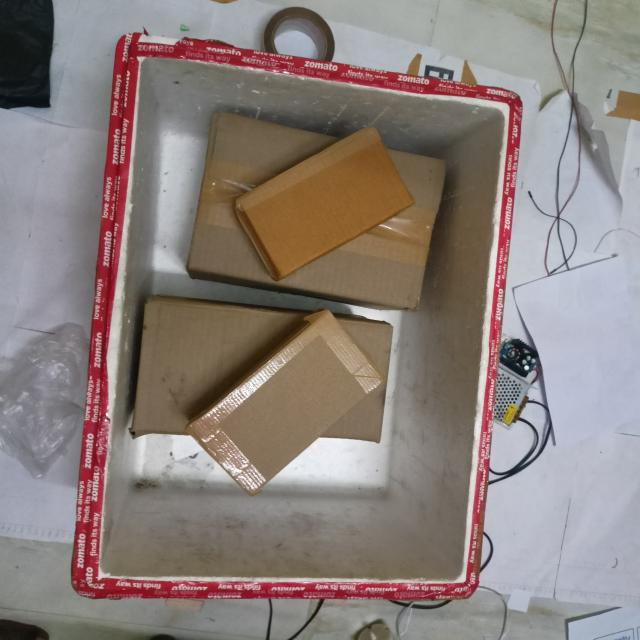box: (193, 310, 380, 493), (234, 127, 417, 279)
